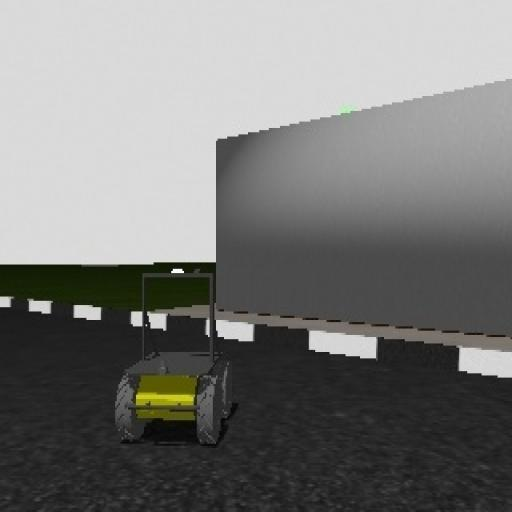huskya200: (106, 265, 234, 455)
